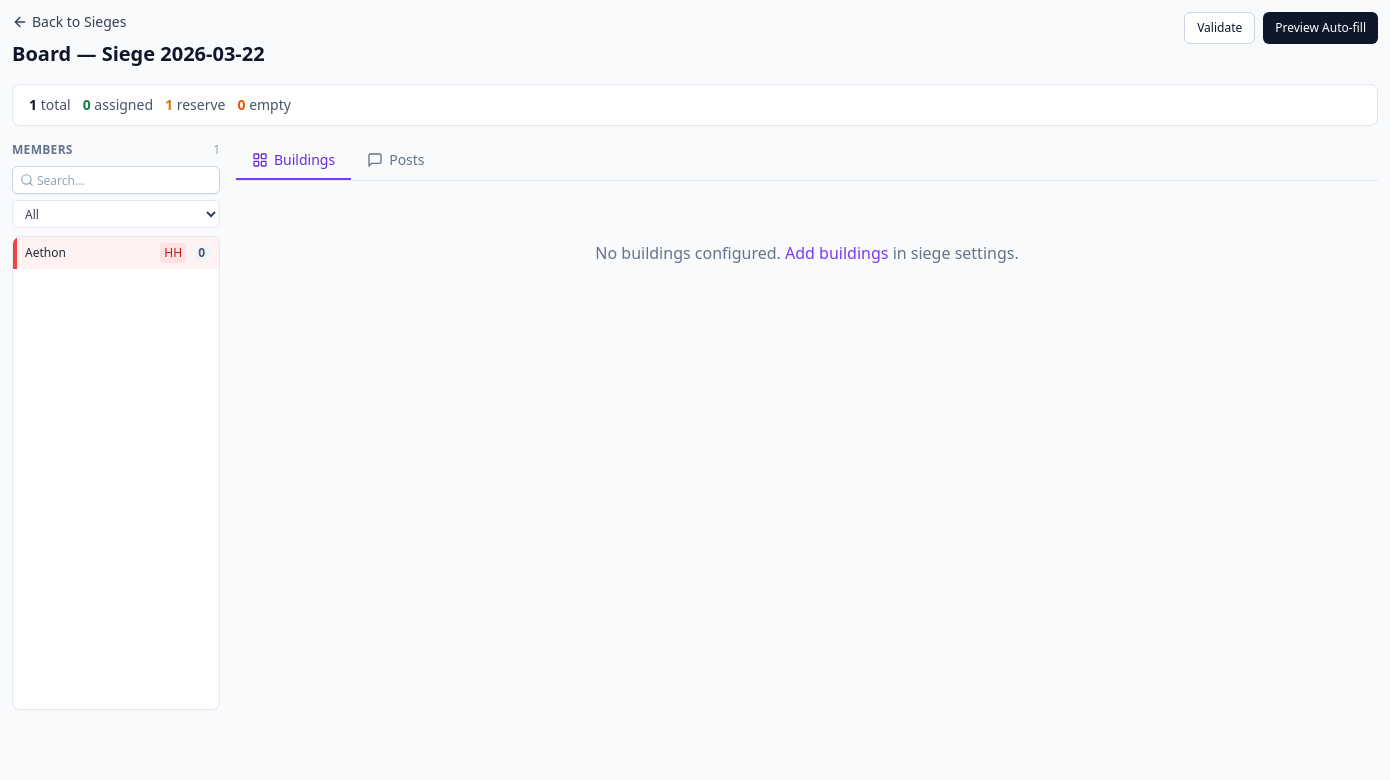
Test: PostsTab — matched condition display › does not show condition pill for a reserve slot even when matched_condition_id is set
Click the button "Posts": coordinates (396, 161) [351,142,441,180]
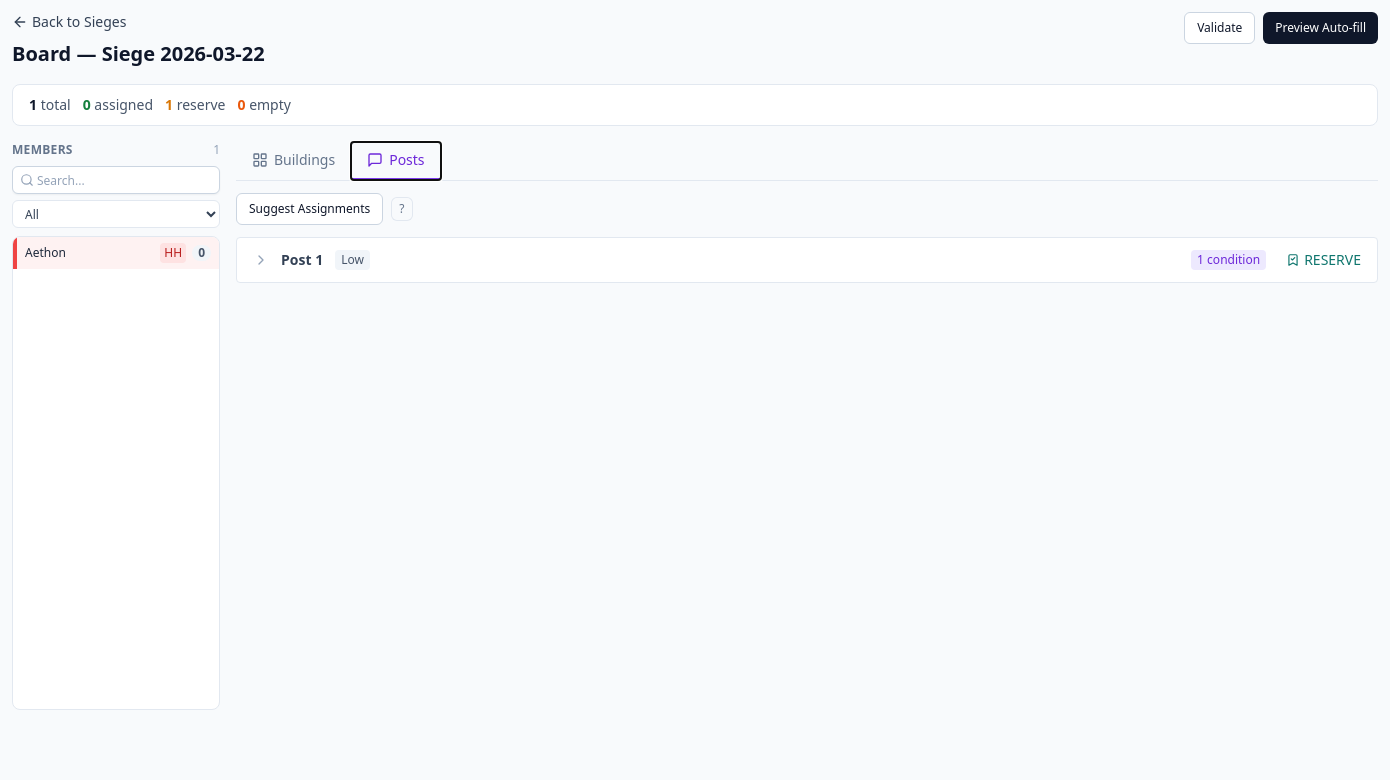
Now the text "RESERVE" is shown, box [1286,250,1361,270]
